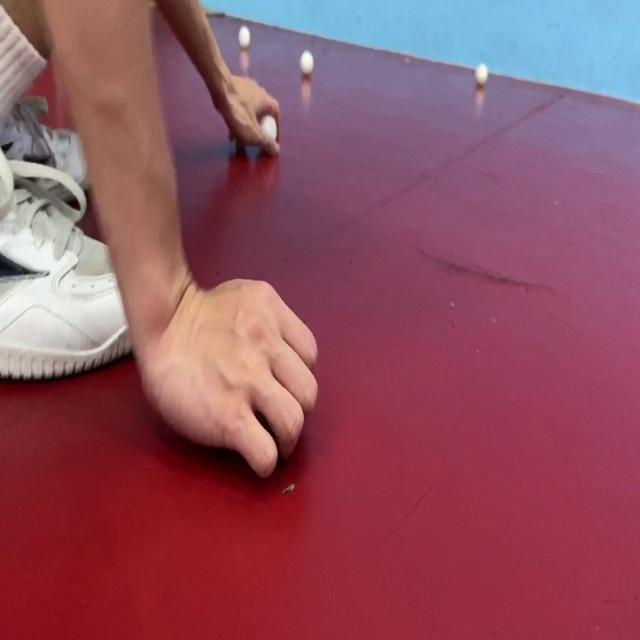ping-pong-ball: (254, 101, 284, 154), (295, 44, 320, 82), (235, 20, 257, 52), (471, 57, 491, 92)
